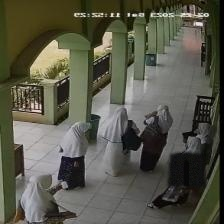Cadar_Niqab: (168, 136, 205, 186)
